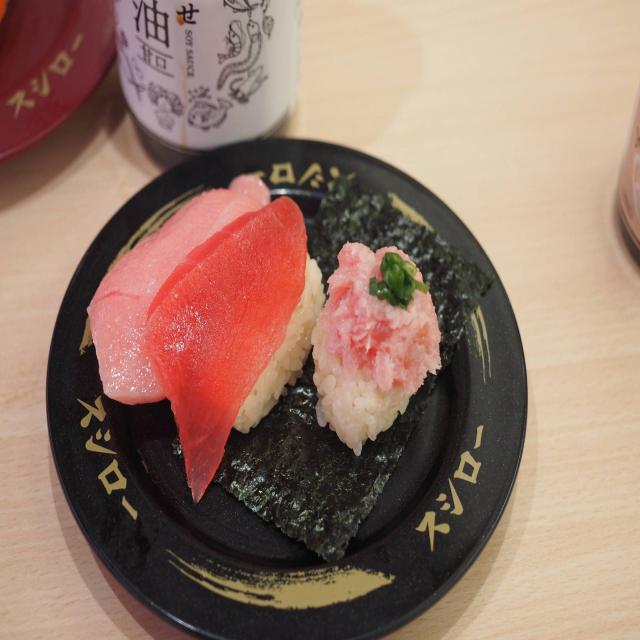janback: (75, 133, 524, 624)
janred: (3, 8, 144, 151)
